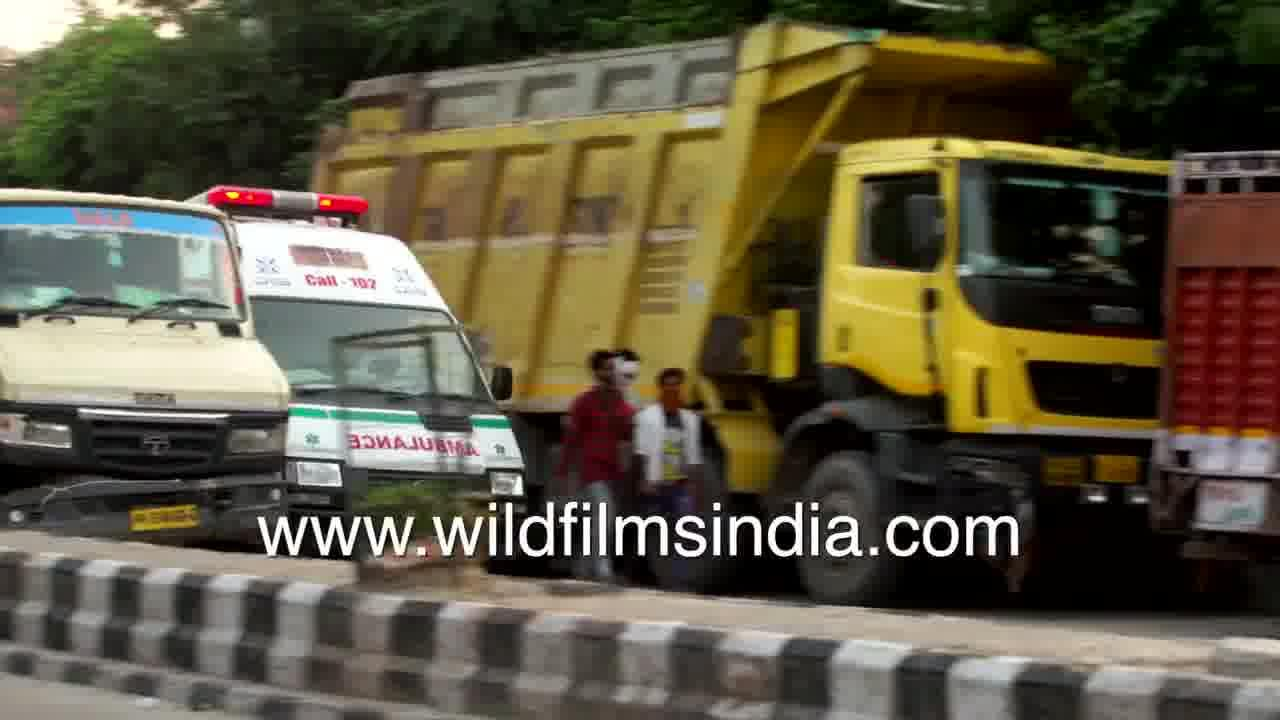AMBULANCE: (242, 182, 523, 558)
